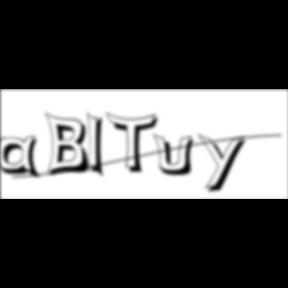B: (45, 111, 95, 179)
I: (87, 110, 111, 182)
T: (106, 112, 164, 176)
a: (0, 135, 46, 182)
u: (153, 132, 201, 178)
y: (198, 132, 252, 196)
